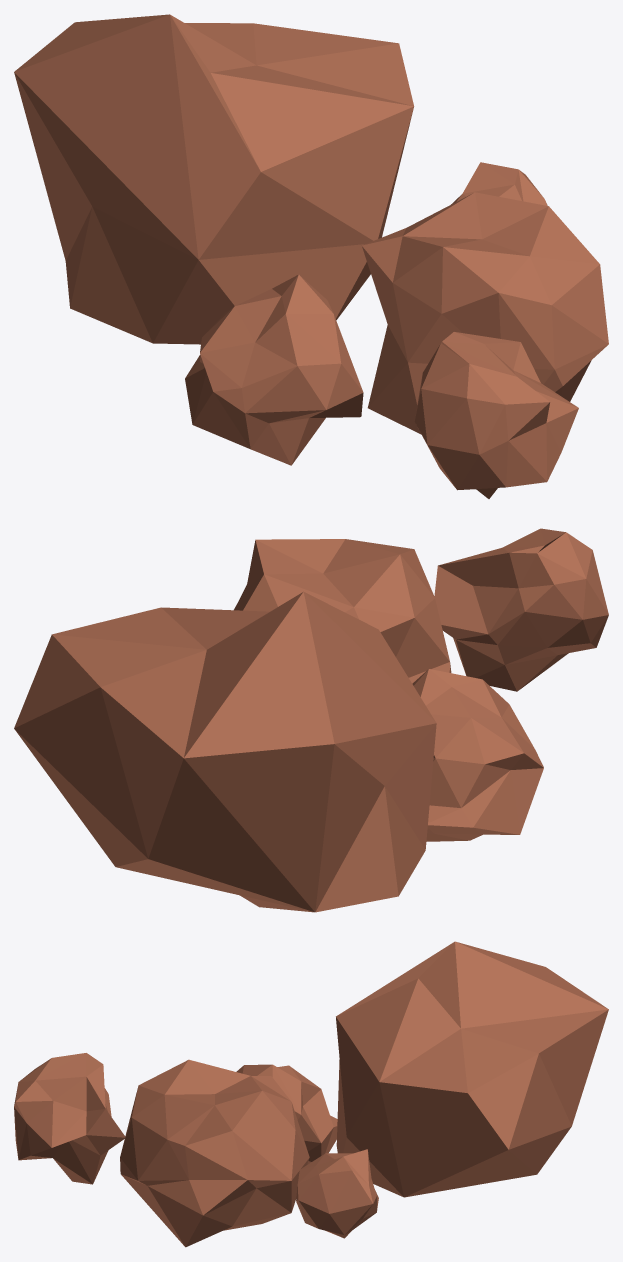
File: Stones.fbx
The picture shows the model from 3 angles, top to bottom: view 1: azimuth 30°, elevation 25°; view 2: azimuth 150°, elevation 25°; view 3: azimuth 270°, elevation 25°; orthographic projection. The views are drawn at different scales.
Visible parts, largest first — view 1: stones; view 2: stones; view 3: stones.
Boxes of the visible parts, x1=… form: stones: x1=14, y1=14, x2=608, y2=498; stones: x1=14, y1=528, x2=608, y2=912; stones: x1=14, y1=941, x2=608, y2=1247.
Bounding box in the file's own units: 688 × 546 × 1218.
